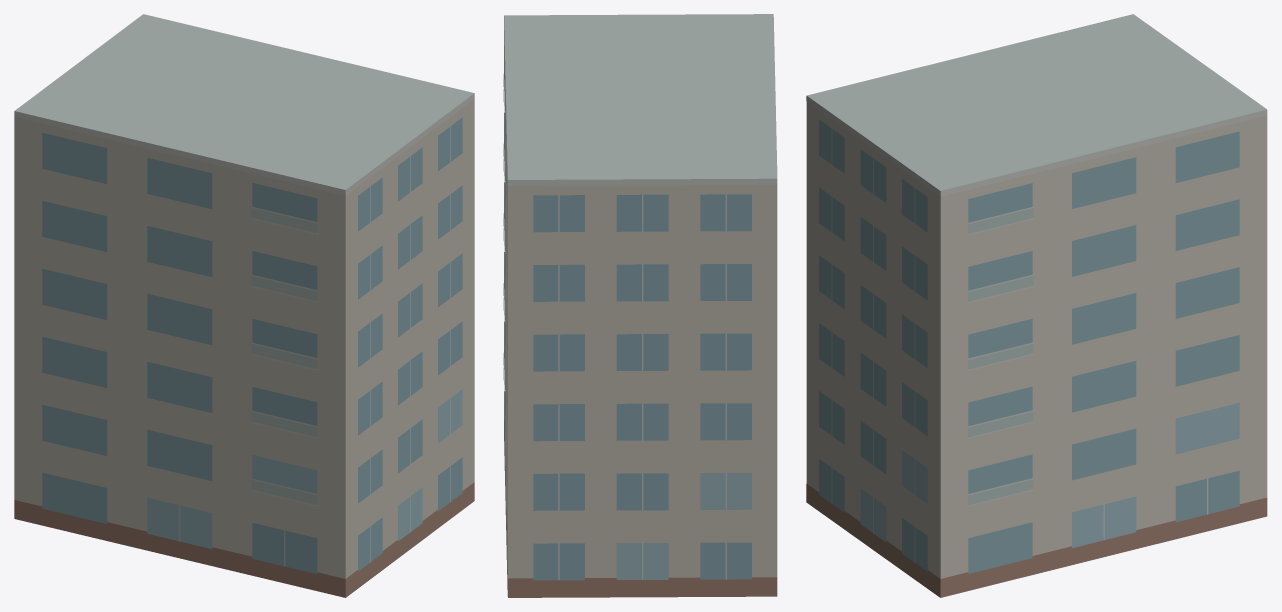
The model's file is survey-upis-32855508.glb.
3 renders of one model, left to right at view 1: azimuth 30°, elevation 25°; view 2: azimuth 150°, elevation 25°; view 3: azimuth 270°, elevation 25°, orthographic. The views are drawn at different scales.
Visible parts, largest first — view 1: survey-upis-32855508.tmp; view 2: survey-upis-32855508.tmp; view 3: survey-upis-32855508.tmp.
Boxes of the visible parts, x1=… form: survey-upis-32855508.tmp: x1=14, y1=14, x2=474, y2=597; survey-upis-32855508.tmp: x1=503, y1=14, x2=777, y2=597; survey-upis-32855508.tmp: x1=806, y1=14, x2=1267, y2=597.
Size of the model in its own units: 15.86 by 17 by 17.45.
